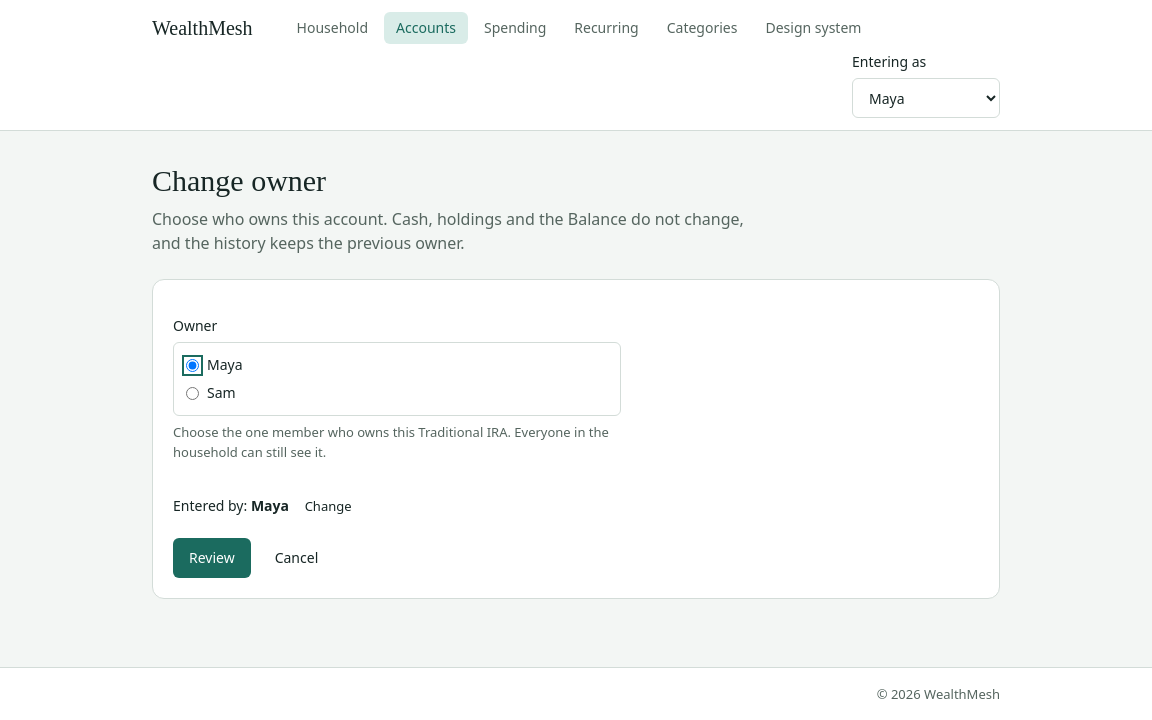
Test: the reviewed owner correction (Q-064) › V2_TRAD_IRA_007 the review is refused as Confirm would be: naming the same owner is not a change
expect the radio button labelled "Maya" is shown: met, box [186,358,199,372]
Click the button "Review": point(212, 558) [173,538,251,578]
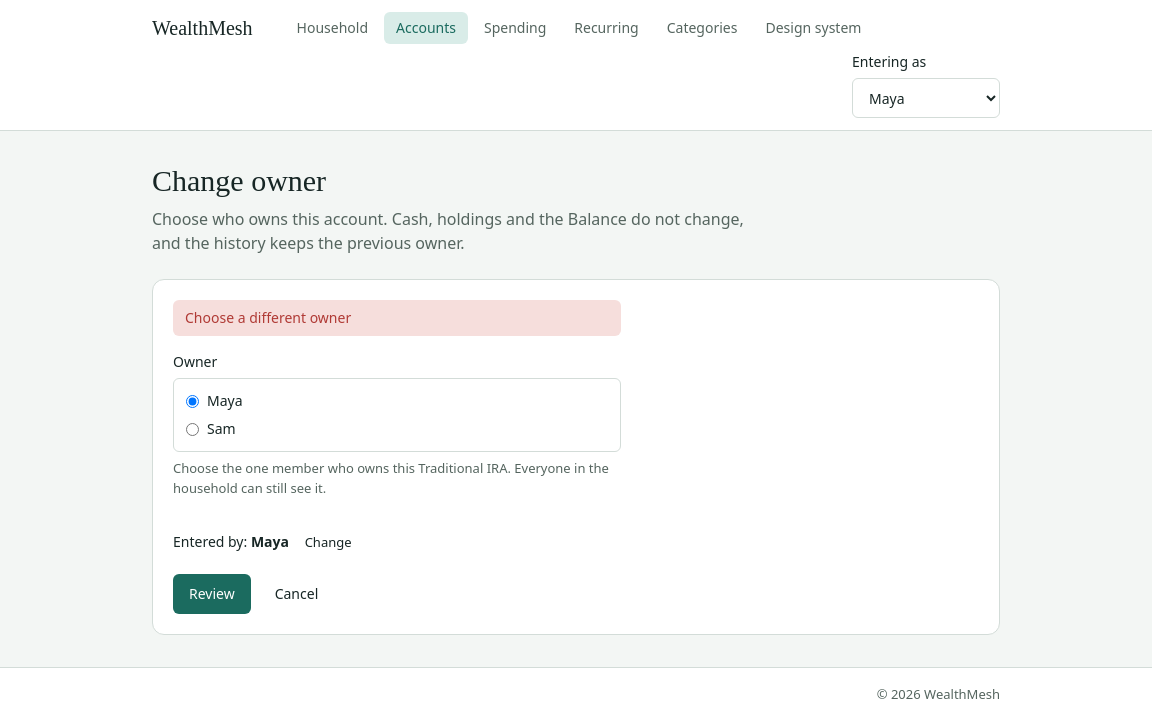
expect the message reads "Choose a different owner": met, box [185,308,351,327]
